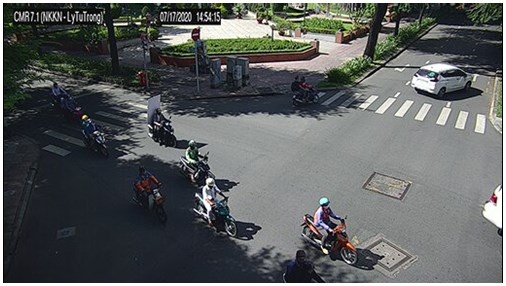xe_hoi: (411, 63, 473, 99), (481, 183, 502, 238)
xe_may: (299, 197, 359, 266), (194, 178, 239, 238), (133, 165, 168, 225), (179, 140, 216, 188), (148, 100, 178, 147), (283, 250, 327, 281), (82, 114, 109, 158), (292, 77, 320, 106), (63, 95, 84, 126), (50, 82, 69, 111)
